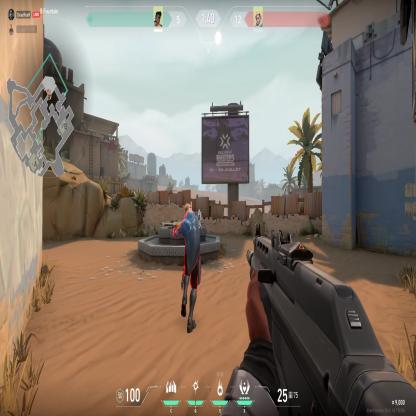enemy: (169, 198, 207, 335)
